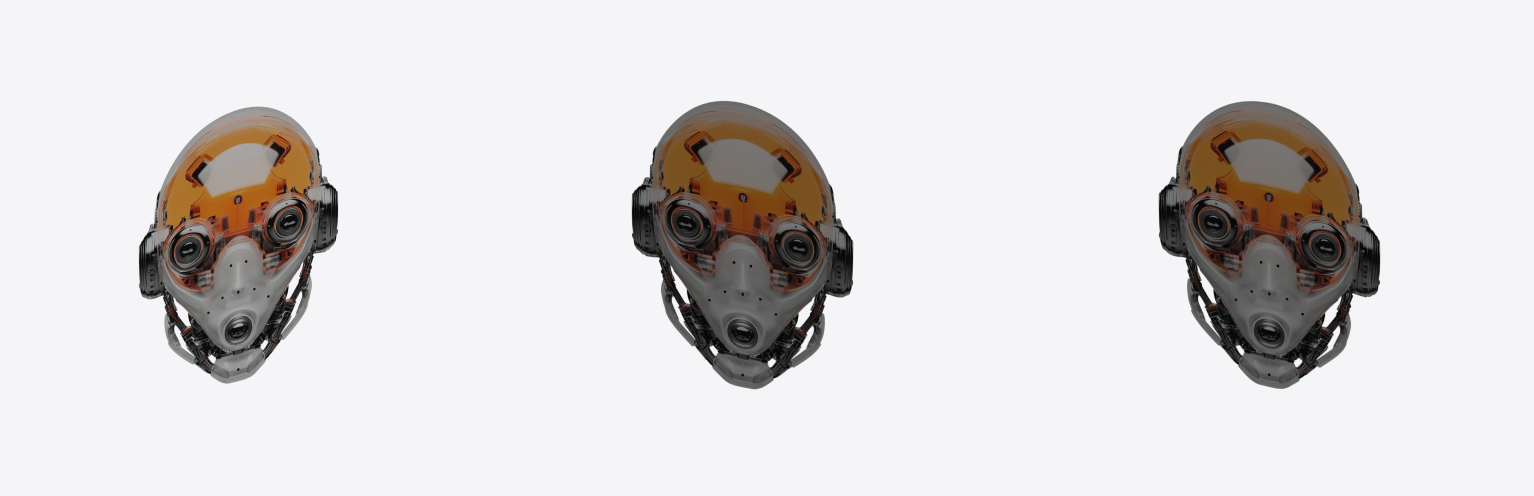
File: bot.glb
The picture shows the model from 3 angles, left to right: view 1: azimuth 30°, elevation 25°; view 2: azimuth 150°, elevation 25°; view 3: azimuth 330°, elevation 25°; orthographic projection. The views are drawn at different scales.
Parts seen in each view (by area): view 1: Plane; view 2: Plane; view 3: Plane.
Part boxes in pixels (bbox=[...]): Plane: bbox=[138, 106, 338, 383]; Plane: bbox=[631, 101, 853, 389]; Plane: bbox=[1158, 101, 1380, 388].
Size of the model in its own units: 2.82 by 2 by 0.1476.
Materials: 1 (1 with a texture image).
